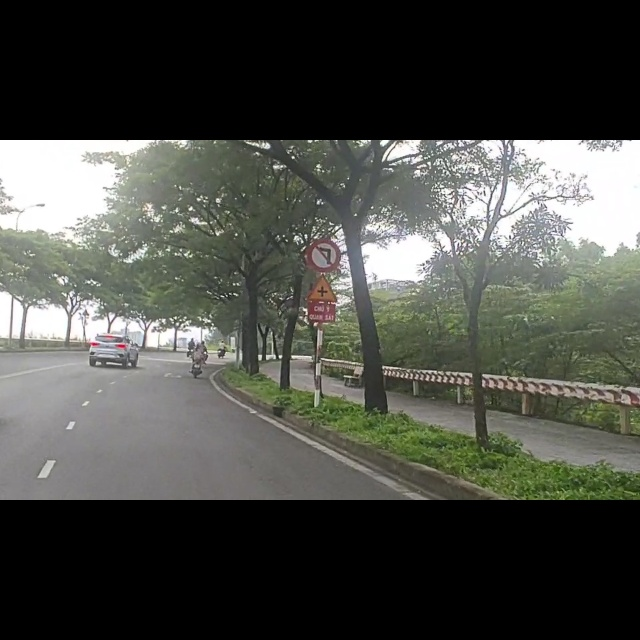bien_cam: (305, 173, 343, 238), (305, 235, 340, 289)
